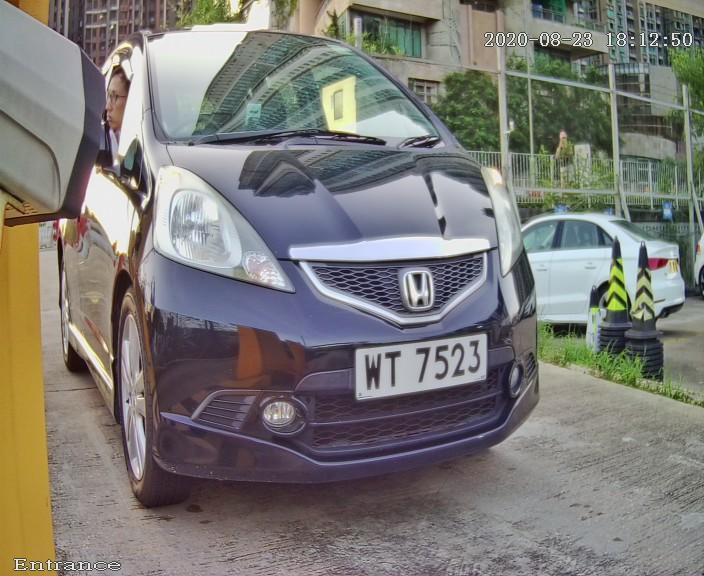Car: (51, 3, 582, 525)
License Plate: (330, 307, 511, 415)
